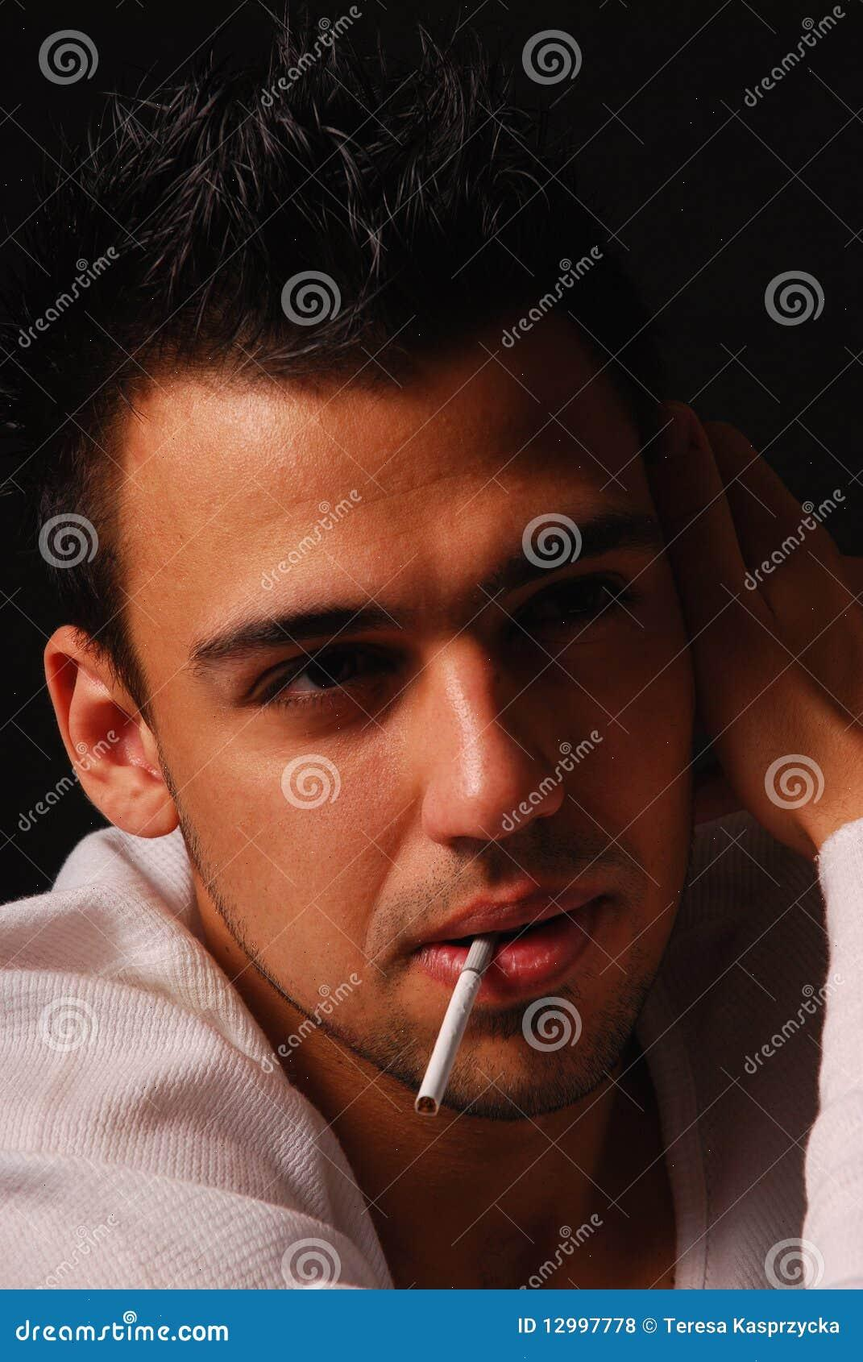cigarette: (415, 934, 496, 1112)
